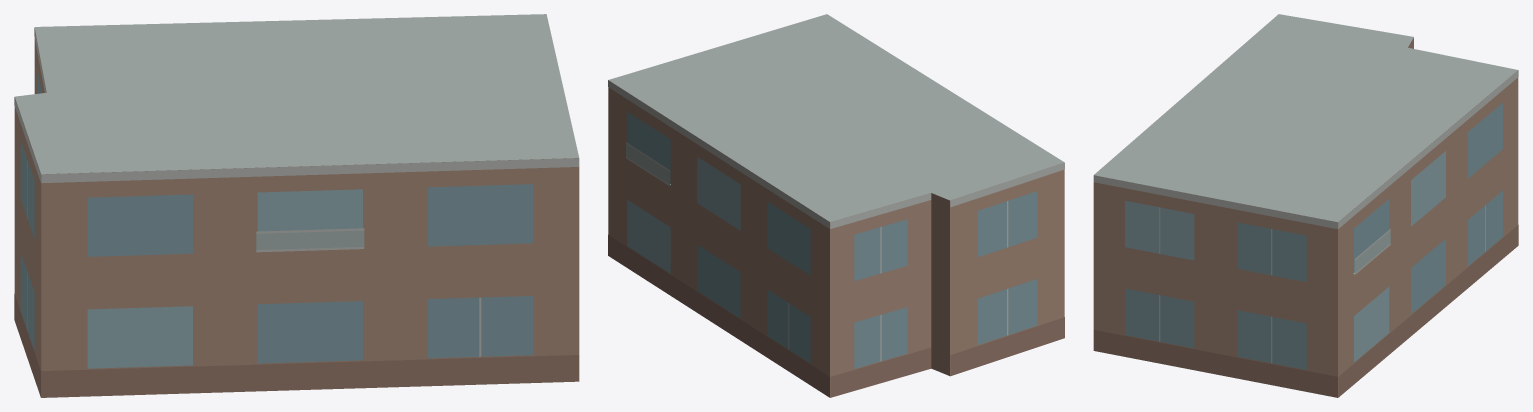
File: survey-upis-32686757.glb
The picture shows the model from 3 angles, left to right: view 1: azimuth 30°, elevation 25°; view 2: azimuth 150°, elevation 25°; view 3: azimuth 270°, elevation 25°; orthographic projection. The views are drawn at different scales.
Parts seen in each view (by area): view 1: survey-upis-32686757.tmp; view 2: survey-upis-32686757.tmp; view 3: survey-upis-32686757.tmp.
Part boxes in pixels (x1,y1,x2,y2): survey-upis-32686757.tmp: [14, 14, 579, 397]; survey-upis-32686757.tmp: [608, 14, 1064, 397]; survey-upis-32686757.tmp: [1093, 14, 1518, 397].
Bounding box in the file's own units: 15.52 × 6.1 × 13.38.
